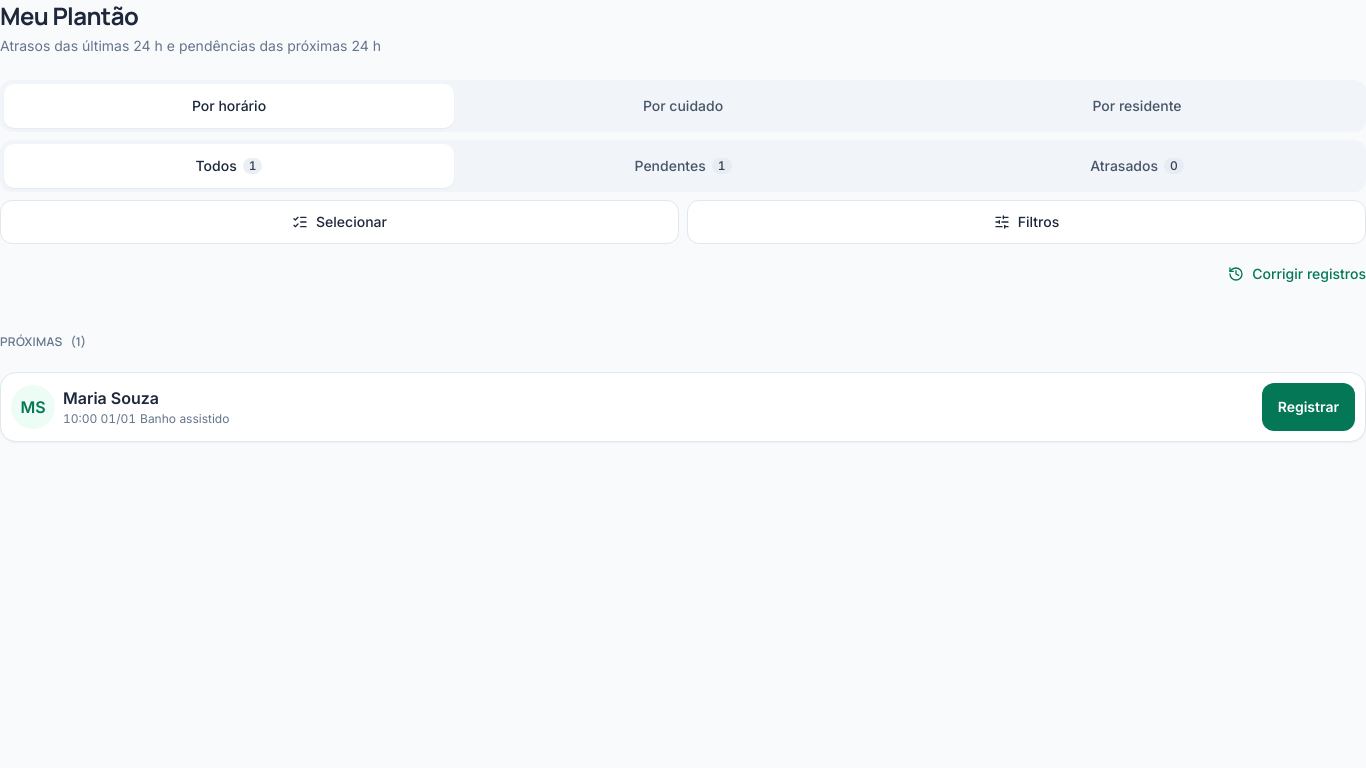
Test: UX-01D — fim do ditado sem fala › parar sem nada reconhecido limpa o "Ouvindo…" e avisa
What coordinates should you click on to do the following:
click the button "Registrar"
I would click on:
 (1308, 407)
Its box is [1262,383,1355,431].
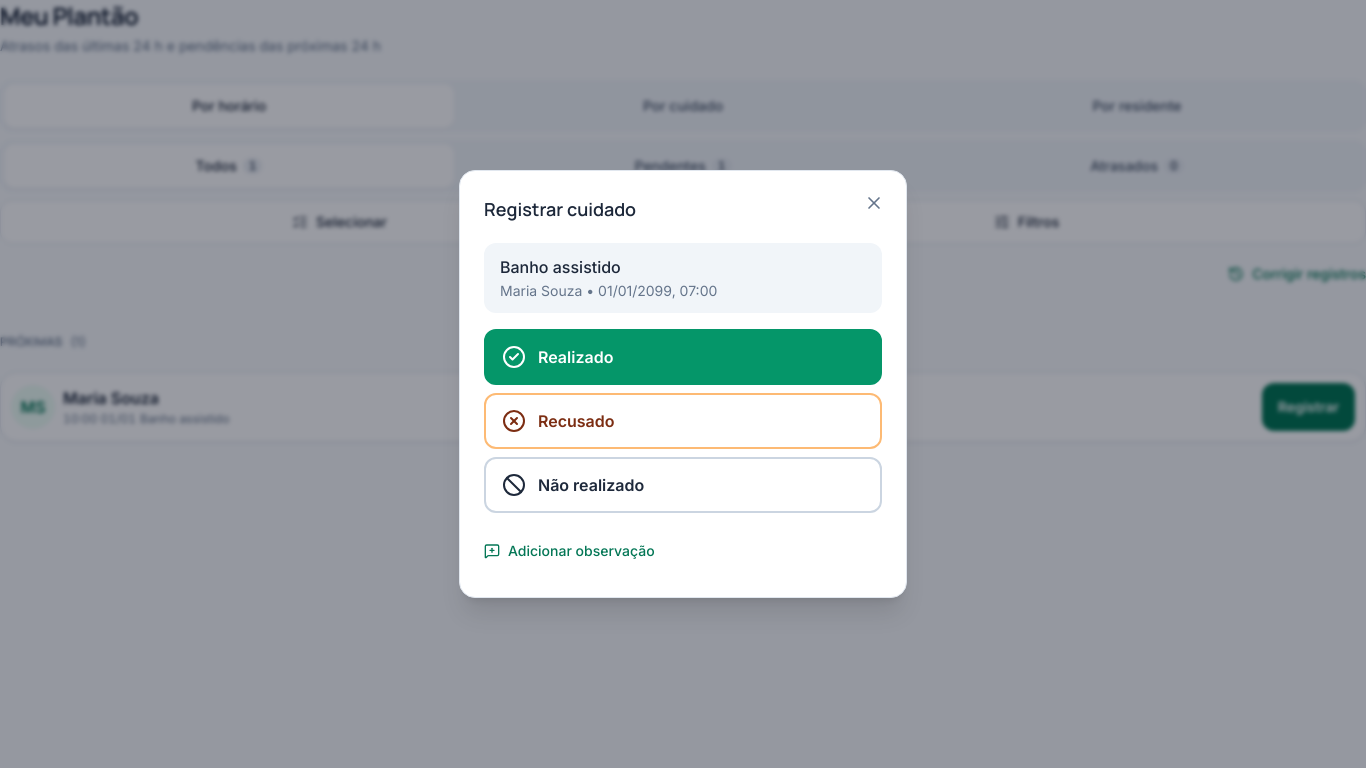
What coordinates should you click on to do the following:
click the button "Adicionar observação"
I would click on:
 (569, 551)
Its box is [484,529,655,573].
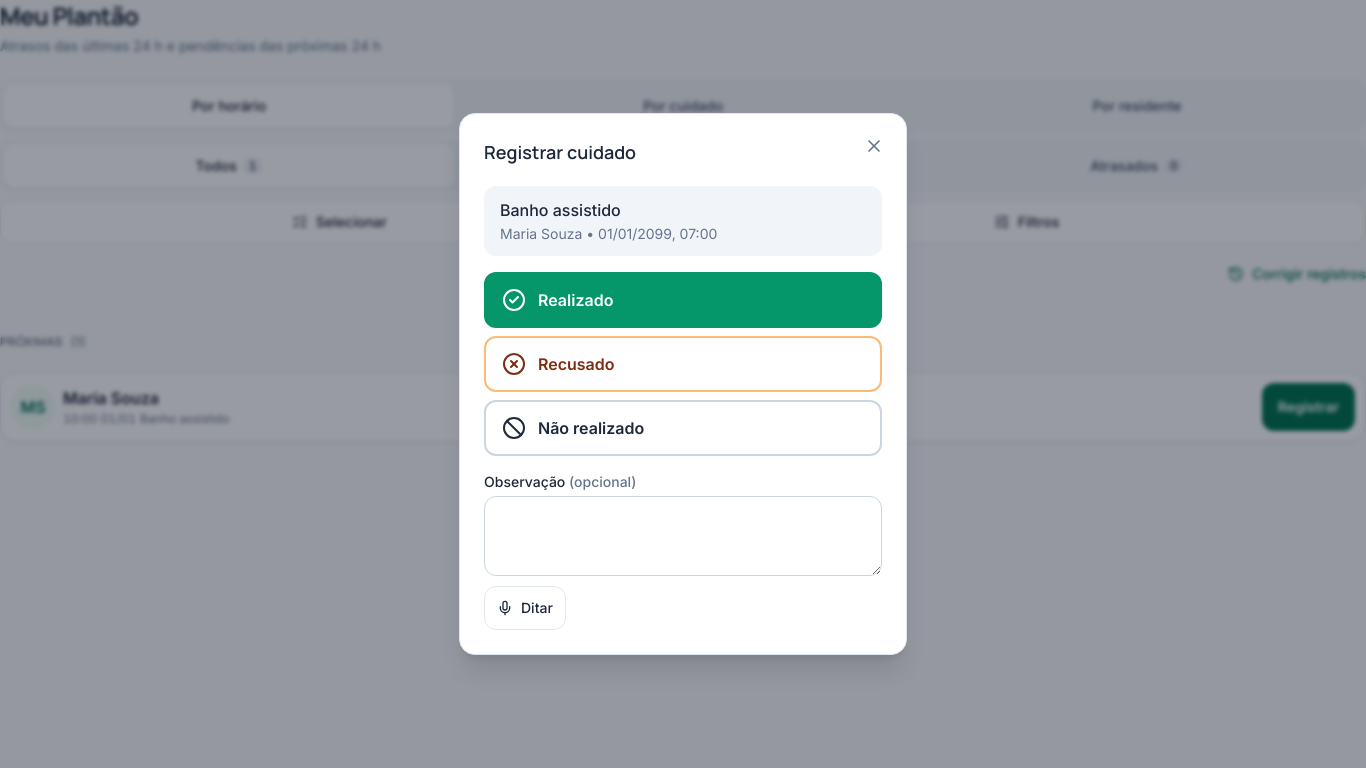
What coordinates should you click on to do the following:
click the button with aria-label "Ditar — observação"
I would click on:
 (525, 608)
Its box is [484,586,566,630].
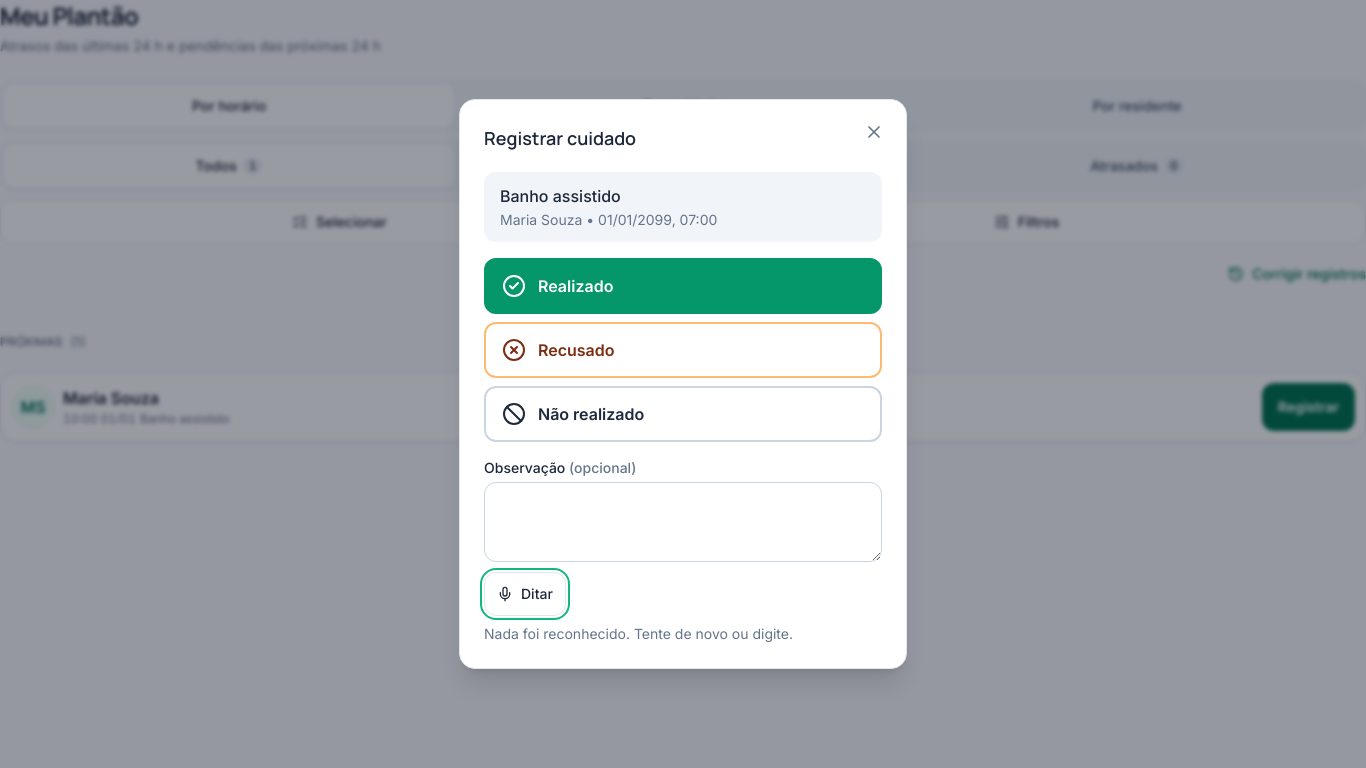
Result: the button with aria-label "Ditar — observação" is shown at [484,572,566,616]
Result: the text box labelled "Observação (opcional)" is empty at [484,482,882,562]
Result: the text "Nada foi reconhecido. Tente de novo ou digite." is shown at [484,624,793,644]
